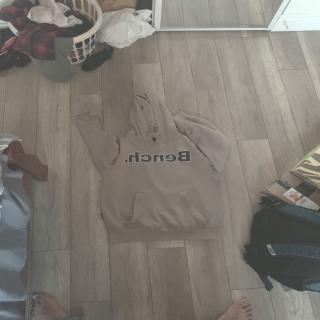Yellow Hoodie: (76, 100, 233, 240)
